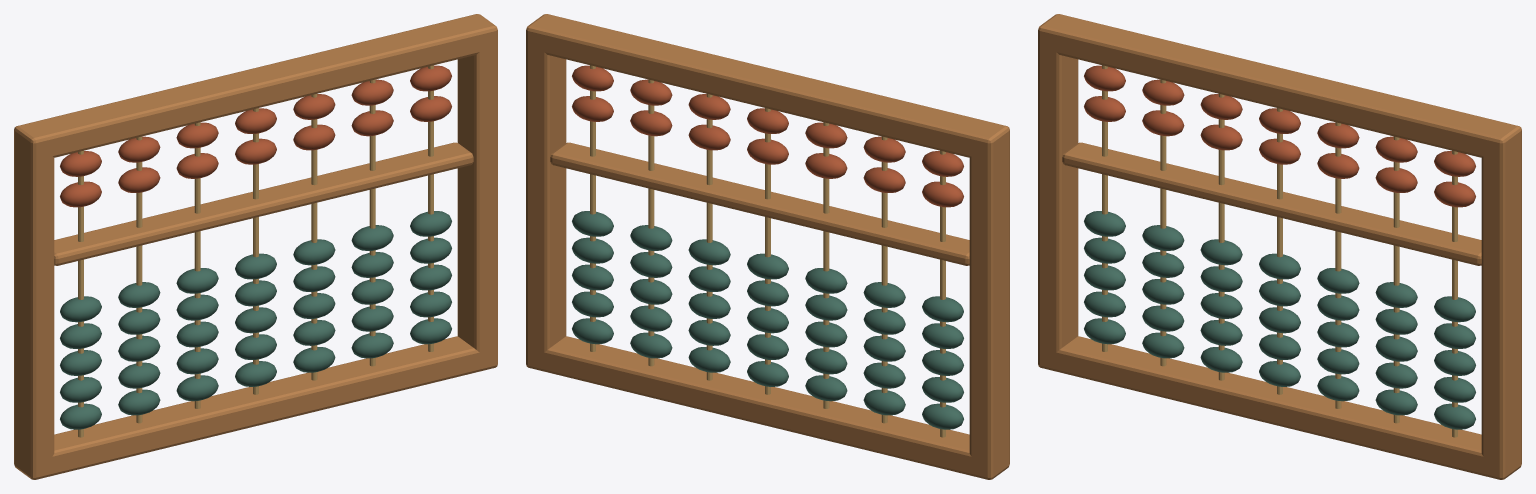
Rendered from abacus.glb.
3 renders of one model, left to right at view 1: azimuth 30°, elevation 25°; view 2: azimuth 150°, elevation 25°; view 3: azimuth 330°, elevation 25°, orthographic.
Visible parts, largest first — view 1: AbacusFrame, Bead_1_L3, Bead_1_L4, Bead_4_U0, Bead_2_L0, Bead_2_L3, Bead_5_U0, Bead_2_L4, Bead_4_L0, Bead_5_L3, Bead_5_L4, Bead_1_L1 (+38 smaller); view 2: AbacusFrame, Bead_1_L3, Bead_1_L4, Bead_4_U0, Bead_2_L0, Bead_2_L3, Bead_5_U0, Bead_2_L4, Bead_4_L0, Bead_5_L3, Bead_5_L4, Bead_1_L1 (+38 smaller); view 3: AbacusFrame, Bead_2_U0, Bead_5_L3, Bead_5_L4, Bead_1_U0, Bead_4_L0, Bead_4_L3, Bead_1_L3, Bead_1_L4, Bead_2_L0, Bead_4_L4, Bead_1_L0 (+38 smaller).
Part boxes in pixels (bbox=[...]): AbacusFrame: bbox=[14, 14, 497, 479]; Bead_1_L3: bbox=[118, 362, 160, 388]; Bead_1_L4: bbox=[118, 389, 160, 415]; Bead_4_U0: bbox=[293, 124, 335, 150]; Bead_2_L0: bbox=[176, 268, 218, 293]; Bead_2_L3: bbox=[176, 348, 218, 374]; Bead_5_U0: bbox=[351, 110, 393, 136]; Bead_2_L4: bbox=[176, 375, 218, 401]; Bead_4_L0: bbox=[293, 239, 335, 265]; Bead_5_L3: bbox=[351, 305, 393, 331]; Bead_5_L4: bbox=[351, 332, 393, 358]; Bead_1_L1: bbox=[118, 309, 160, 334]; AbacusFrame: bbox=[526, 14, 1009, 479]; Bead_1_L3: bbox=[863, 362, 905, 388]; Bead_1_L4: bbox=[863, 389, 905, 415]; Bead_4_U0: bbox=[688, 124, 730, 150]; Bead_2_L0: bbox=[805, 268, 847, 293]; Bead_2_L3: bbox=[805, 348, 847, 374]; Bead_5_U0: bbox=[630, 110, 672, 136]; Bead_2_L4: bbox=[805, 375, 847, 401]; Bead_4_L0: bbox=[688, 239, 730, 265]; Bead_5_L3: bbox=[630, 305, 672, 331]; Bead_5_L4: bbox=[630, 332, 672, 358]; Bead_1_L1: bbox=[863, 309, 905, 334]; AbacusFrame: bbox=[1038, 14, 1521, 479]; Bead_2_U0: bbox=[1200, 124, 1242, 150]; Bead_5_L3: bbox=[1375, 362, 1417, 388]; Bead_5_L4: bbox=[1375, 389, 1417, 415]; Bead_1_U0: bbox=[1142, 110, 1184, 136]; Bead_4_L0: bbox=[1317, 268, 1359, 293]; Bead_4_L3: bbox=[1317, 348, 1359, 374]; Bead_1_L3: bbox=[1142, 305, 1184, 331]; Bead_1_L4: bbox=[1142, 332, 1184, 358]; Bead_2_L0: bbox=[1200, 239, 1242, 265]; Bead_4_L4: bbox=[1317, 375, 1359, 401]; Bead_1_L0: bbox=[1142, 225, 1184, 250].
Size of the model in its own units: 0.4 by 0.28 by 0.03.
